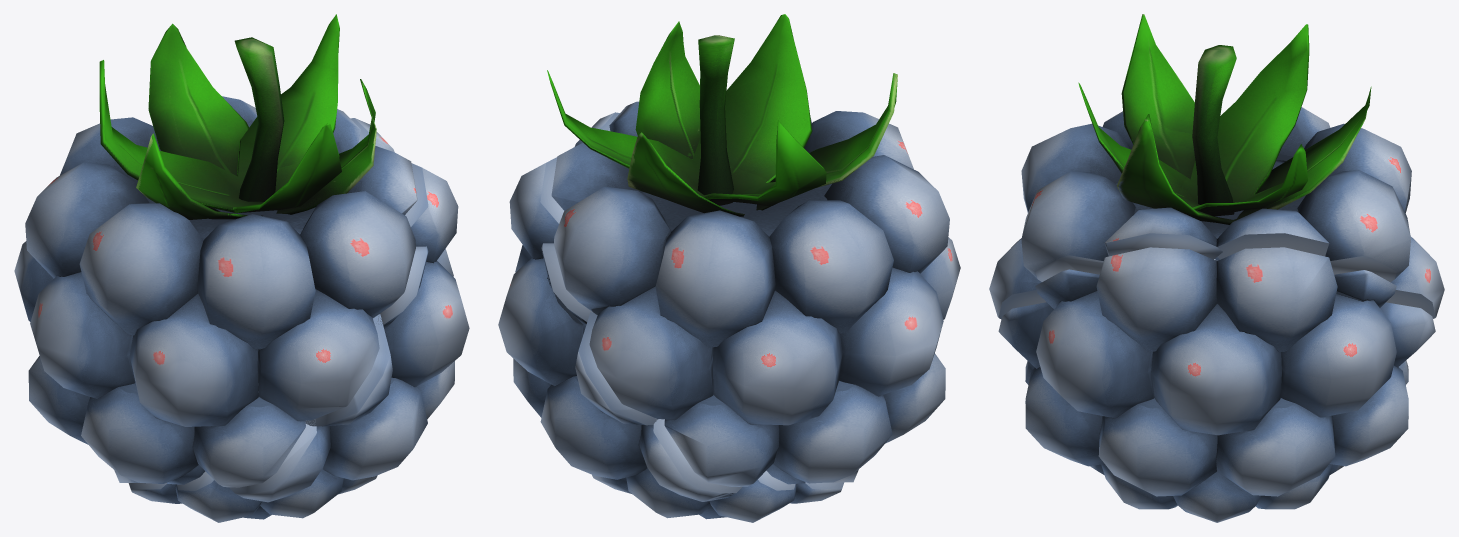
The model's file is Berry Sliced.fbx.
The picture shows the model from 3 angles, left to right: view 1: azimuth 30°, elevation 25°; view 2: azimuth 150°, elevation 25°; view 3: azimuth 270°, elevation 25°; orthographic projection. The views are drawn at different scales.
Parts seen in each view (by area): view 1: Magnetic_Berry_mesh.001, Magnetic_Berry_mesh; view 2: Magnetic_Berry_mesh.001, Magnetic_Berry_mesh; view 3: Magnetic_Berry_mesh, Magnetic_Berry_mesh.001.
Part boxes in pixels (bbox=[...]): Magnetic_Berry_mesh.001: bbox=[14, 14, 417, 487]; Magnetic_Berry_mesh: bbox=[128, 118, 469, 522]; Magnetic_Berry_mesh.001: bbox=[547, 14, 960, 486]; Magnetic_Berry_mesh: bbox=[498, 112, 844, 522]; Magnetic_Berry_mesh: bbox=[998, 247, 1435, 522]; Magnetic_Berry_mesh.001: bbox=[989, 14, 1444, 319].
Size of the model in its own units: 929 by 1022 by 904.
